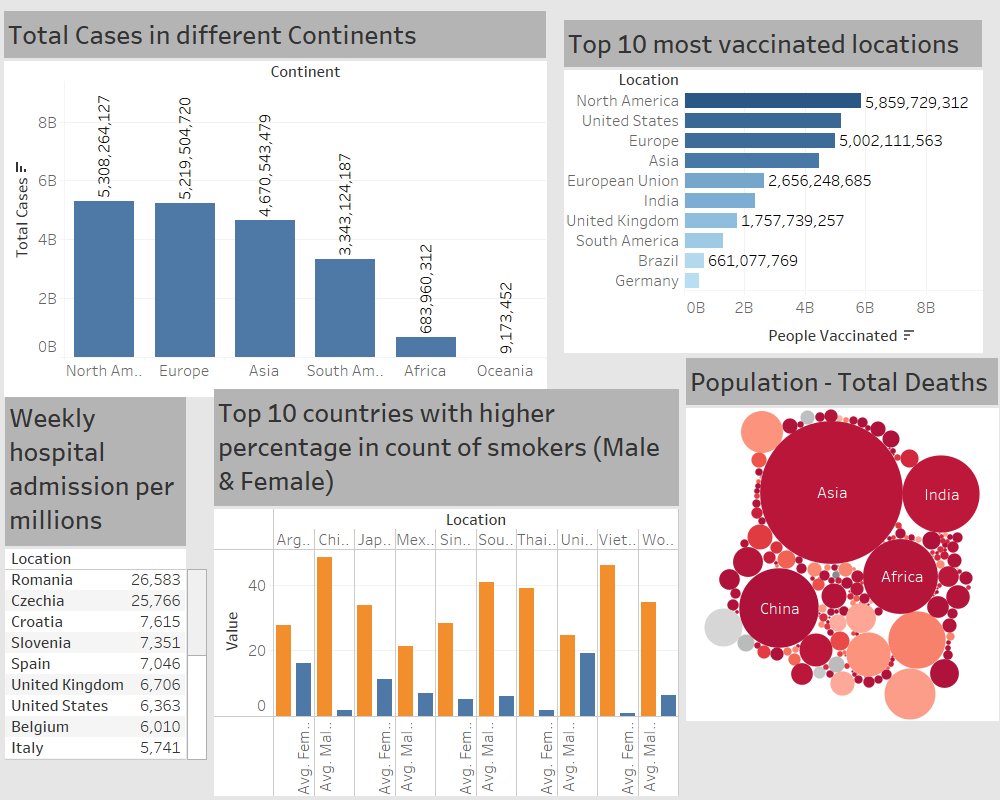

This screenshot's page, from the dashboard's own definition file:
{"tool":"tableau","page":{"name":"Dashboard 1","canvas":[1000,800],"ordinal":0},"visuals":[{"type":"worksheet","title":"Sheet 1","mark":"Automatic","rows":["total_cases"],"cols":["continent"],"box":[4,11,542,386]},{"type":"worksheet","title":"Sheet 2","mark":"Automatic","rows":["location"],"cols":["people_vaccinated"],"box":[564,20,418,403]},{"type":"worksheet","title":"Sheet 4","mark":"Circle","box":[686,358,312,437]},{"type":"worksheet","title":"Sheet 5","mark":"Automatic","cols":["location"],"box":[214,389,465,408]},{"type":"worksheet","title":"Sheet 3","mark":"Automatic","rows":["location"],"box":[5,394,231,401]}]}

Visuals, with their boxes in screenshot pixels (x1, y1, x2, y2), scaled from the page's 1000x800 canvas onto the 1000x800 screenshot:
"Sheet 1" worksheet: x1=4, y1=11, x2=546, y2=397
"Sheet 2" worksheet: x1=564, y1=20, x2=982, y2=423
"Sheet 4" worksheet (Circle marks): x1=686, y1=358, x2=998, y2=795
"Sheet 5" worksheet: x1=214, y1=389, x2=679, y2=797
"Sheet 3" worksheet: x1=5, y1=394, x2=236, y2=795
